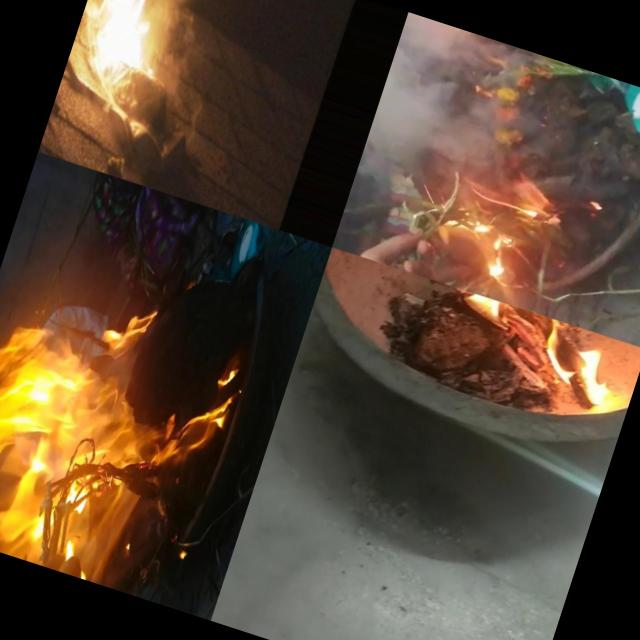fire: (0, 158, 131, 556), (449, 294, 638, 422), (77, 0, 174, 70), (354, 195, 428, 272)
smoke: (363, 16, 503, 214), (115, 0, 253, 147)
